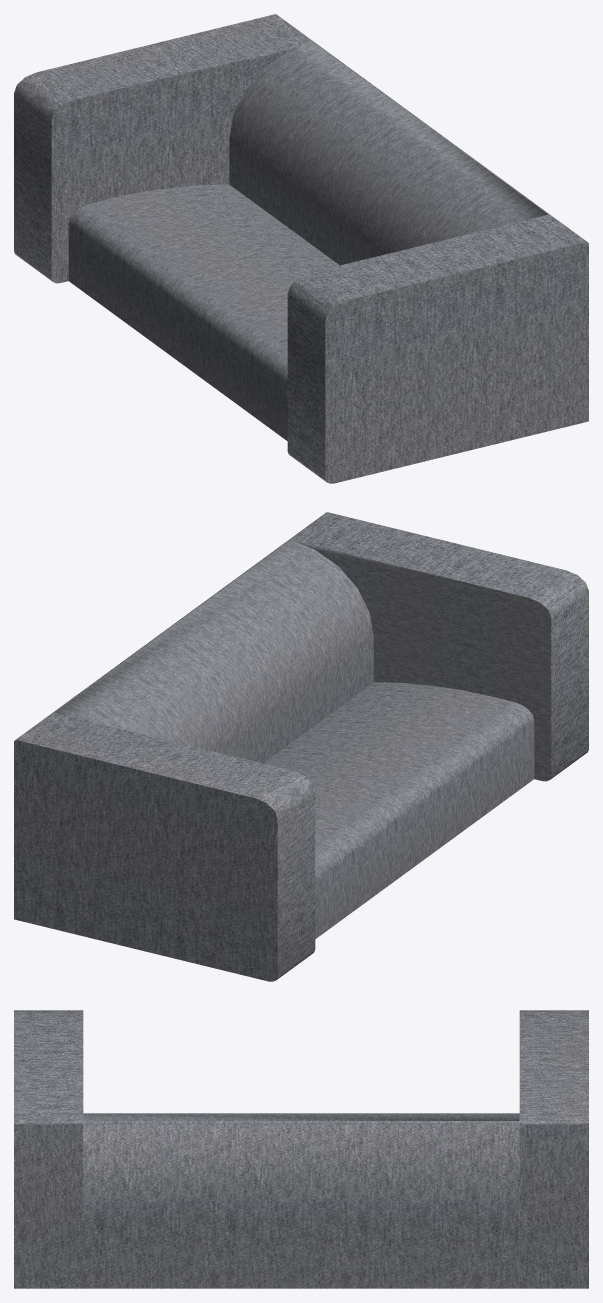
File: Couch.glb
3 renders of one model, top to bottom at view 1: azimuth 30°, elevation 25°; view 2: azimuth 150°, elevation 25°; view 3: azimuth 270°, elevation 25°, orthographic. The views are drawn at different scales.
Visible parts, largest first — view 1: Couch; view 2: Couch; view 3: Couch.
Boxes of the visible parts, <box> form: Couch: <box>14,14,588,483</box>; Couch: <box>14,512,588,981</box>; Couch: <box>14,1010,588,1288</box>.
Bounding box in the file's own units: 0.88 × 0.574 × 1.8.
1 material, 1 textured.
